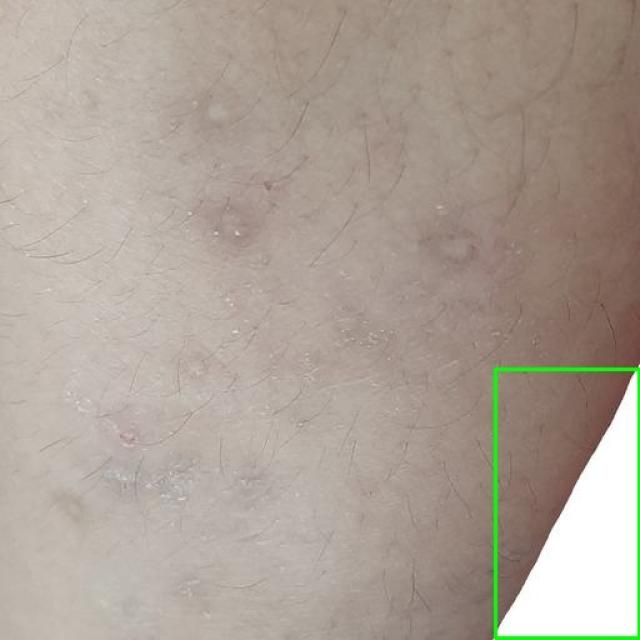Scabies: (495, 370, 639, 639)
